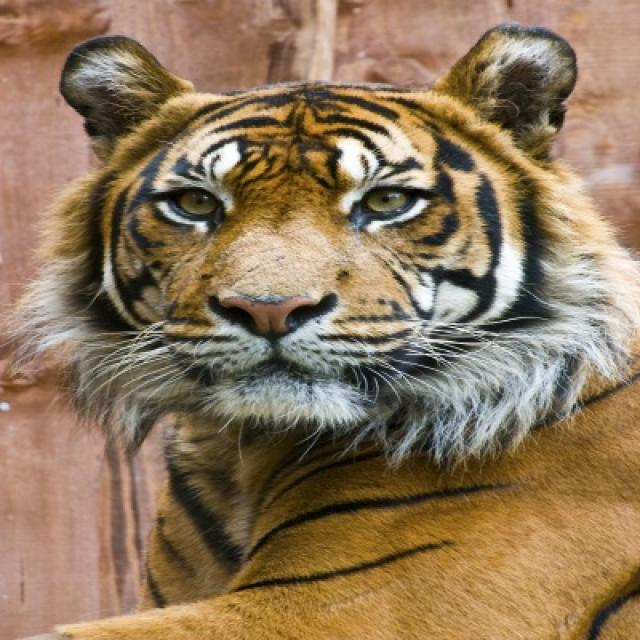Tiger: (52, 32, 638, 629)
